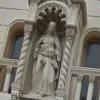Statue: (23, 9, 79, 100)
